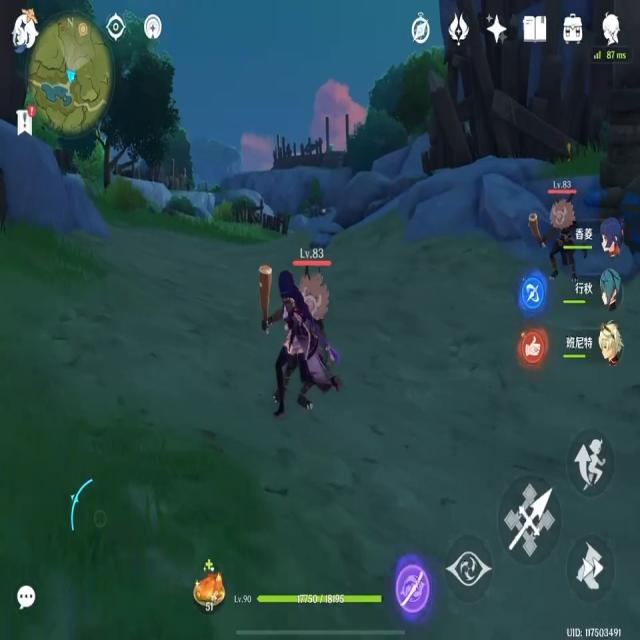genshin-hilichurls: (533, 195, 577, 273), (306, 273, 330, 317)
